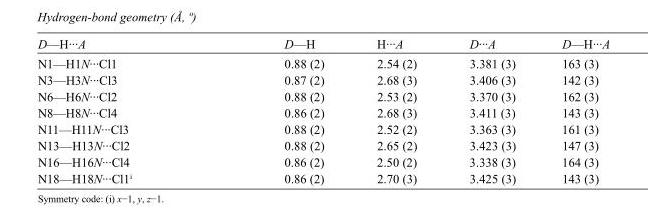table: (36, 36, 609, 184)
table column: (36, 36, 207, 184), (207, 36, 349, 184), (442, 36, 538, 184), (349, 36, 442, 184), (538, 36, 609, 184)
table row: (36, 53, 609, 71), (36, 36, 609, 53), (36, 71, 609, 88), (36, 120, 609, 137), (36, 153, 609, 170), (36, 88, 609, 104), (36, 104, 609, 120), (36, 137, 609, 153), (36, 170, 609, 184)
